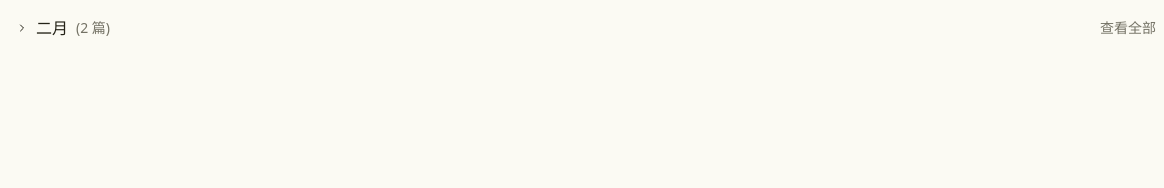
Test: ArchiveMonthGroup › 折叠按钮具有正确的 aria 属性并可被键盘触发
Click the button "二月 (2 篇)" at (63, 28), box x1=12 y1=12 x2=114 y2=44
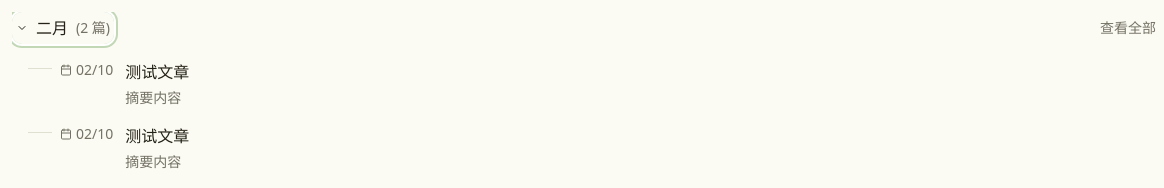
Check: the element named "2025 年 二月 文章列表" is shown, box x1=60 y1=60 x2=189 y2=171
